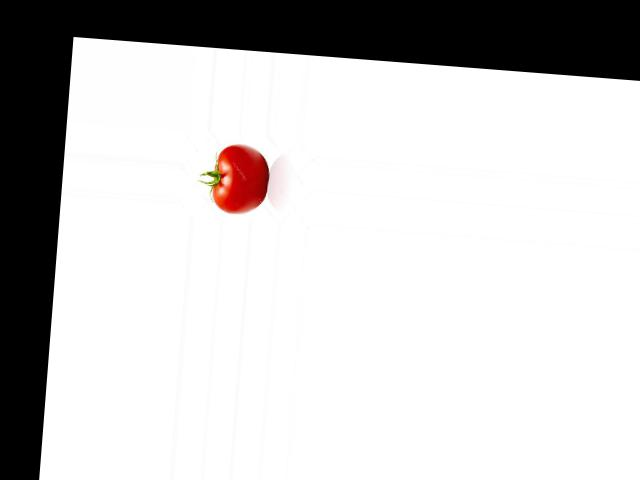tomato: (211, 141, 271, 216)
